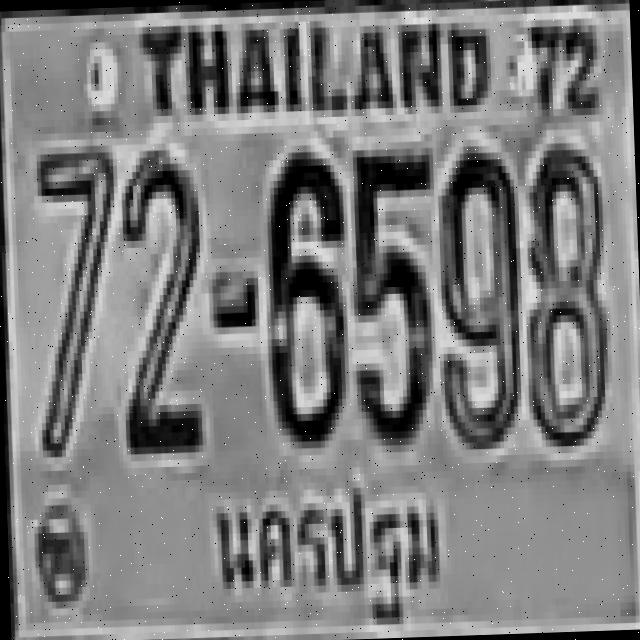2: (114, 148, 204, 448)
5: (344, 144, 438, 443)
6: (261, 144, 347, 442)
7: (28, 142, 122, 454)
8: (517, 138, 612, 444)
9: (432, 138, 522, 444)
NakhonPathom: (201, 471, 446, 631)
